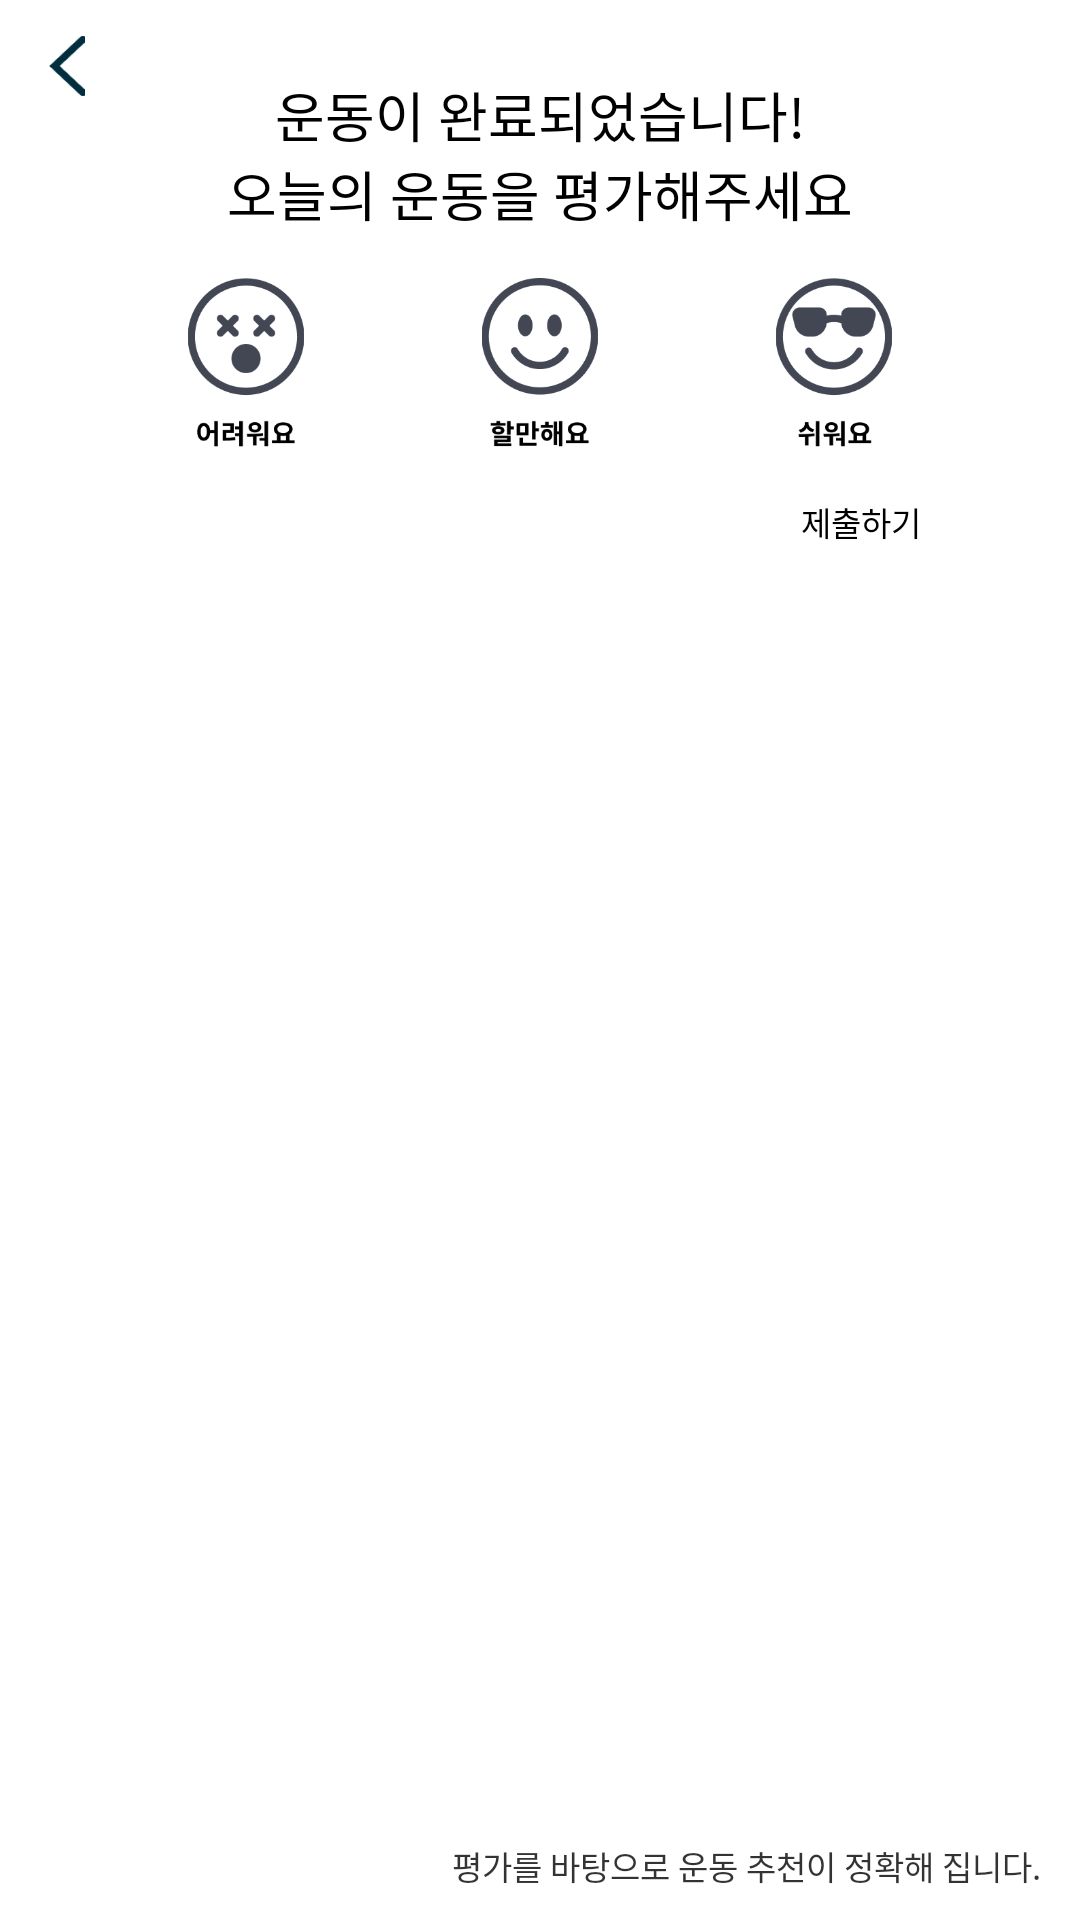

Screen size 1080px×1920px. Icon name, then its box in pixels as [x1, y1, x2, y2]:
back arrow: [49, 36, 85, 96]
evaluation: [482, 278, 598, 447]
